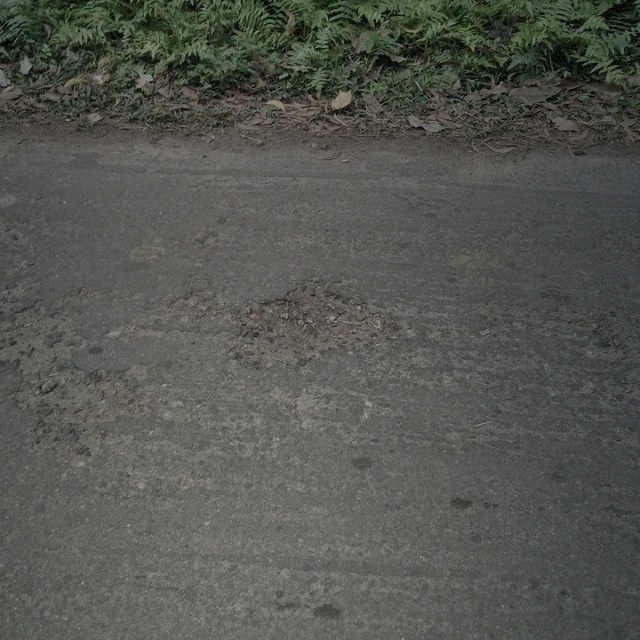pothole: (231, 279, 402, 370), (10, 366, 144, 436), (0, 304, 68, 362)
